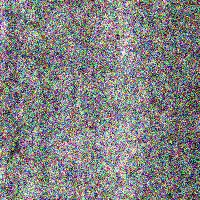crazing: (4, 0, 106, 70), (5, 76, 98, 136)
